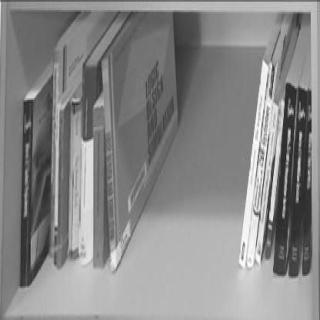book-spine: (246, 61, 278, 267), (238, 59, 269, 266), (273, 81, 298, 274), (254, 100, 280, 262), (289, 86, 307, 275), (265, 97, 285, 258), (102, 57, 116, 271), (19, 97, 34, 284), (68, 101, 82, 257), (92, 105, 104, 266), (302, 89, 312, 273), (53, 103, 60, 263), (57, 108, 64, 267)
